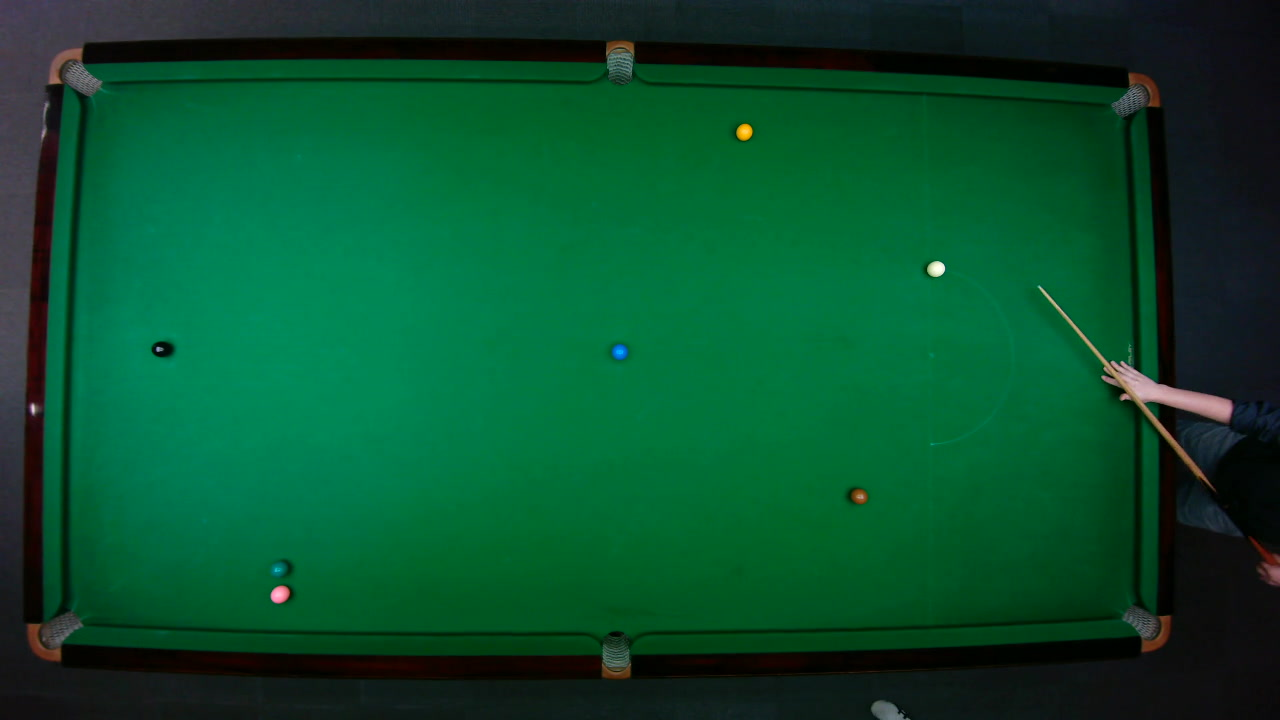bag: (25, 609, 83, 661), (46, 47, 102, 97), (1119, 603, 1171, 651), (1108, 71, 1160, 118), (601, 629, 630, 680), (605, 38, 633, 85)
black: (149, 339, 172, 357)
blue: (610, 342, 628, 360)
brown: (848, 487, 868, 504)
cue: (1032, 284, 1280, 576)
green: (268, 558, 289, 576)
pink: (268, 583, 290, 604)
white: (925, 259, 946, 277)
yellow: (734, 121, 753, 141)
zone: (927, 267, 1014, 445)
